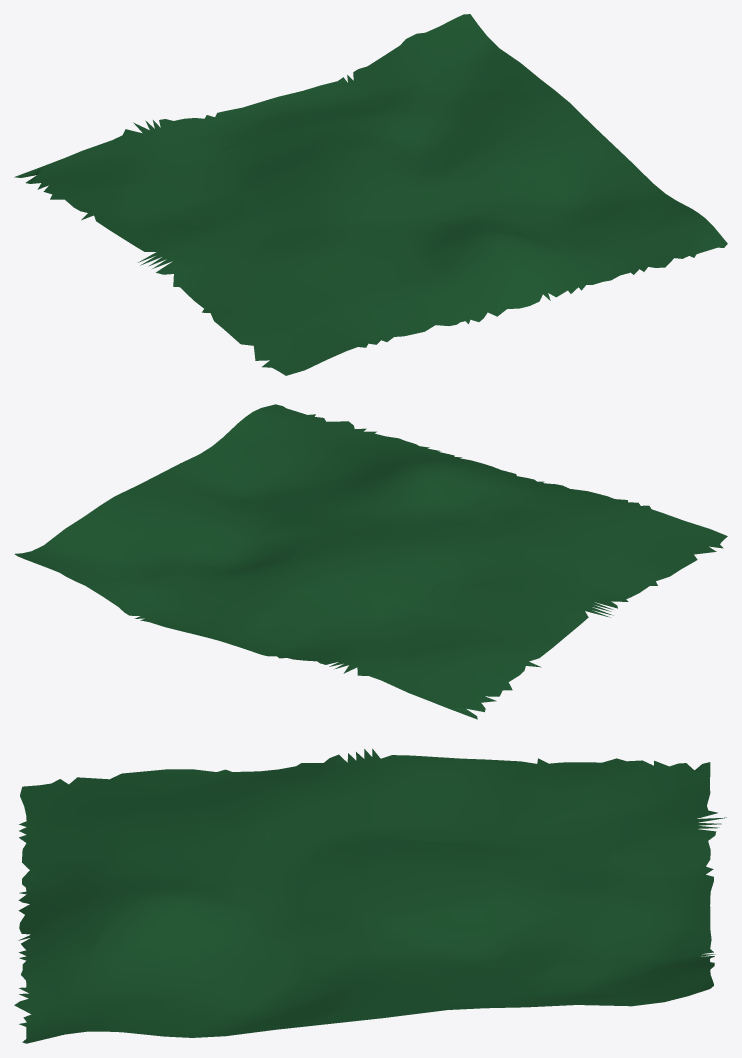
The model's file is payo_land_x3_y0_lod2.glb.
The picture shows the model from 3 angles, top to bottom: view 1: azimuth 30°, elevation 25°; view 2: azimuth 150°, elevation 25°; view 3: azimuth 270°, elevation 25°; orthographic projection. The views are drawn at different scales.
Parts seen in each view (by area): view 1: payo_land_x3_y0; view 2: payo_land_x3_y0; view 3: payo_land_x3_y0.
Part boxes in pixels (x1,y1,x2,y2): payo_land_x3_y0: (14,14,727,375); payo_land_x3_y0: (14,404,727,719); payo_land_x3_y0: (14,748,726,1043).
Bounding box in the file's own units: 264 × 34.98 × 266.
